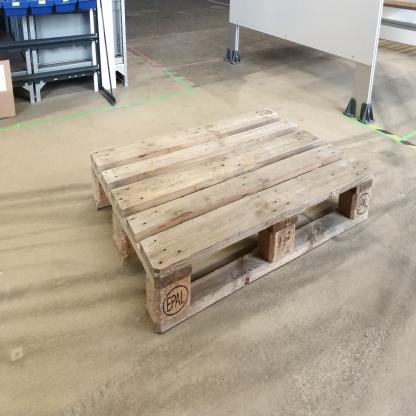BoxFace: (84, 100, 379, 348)
